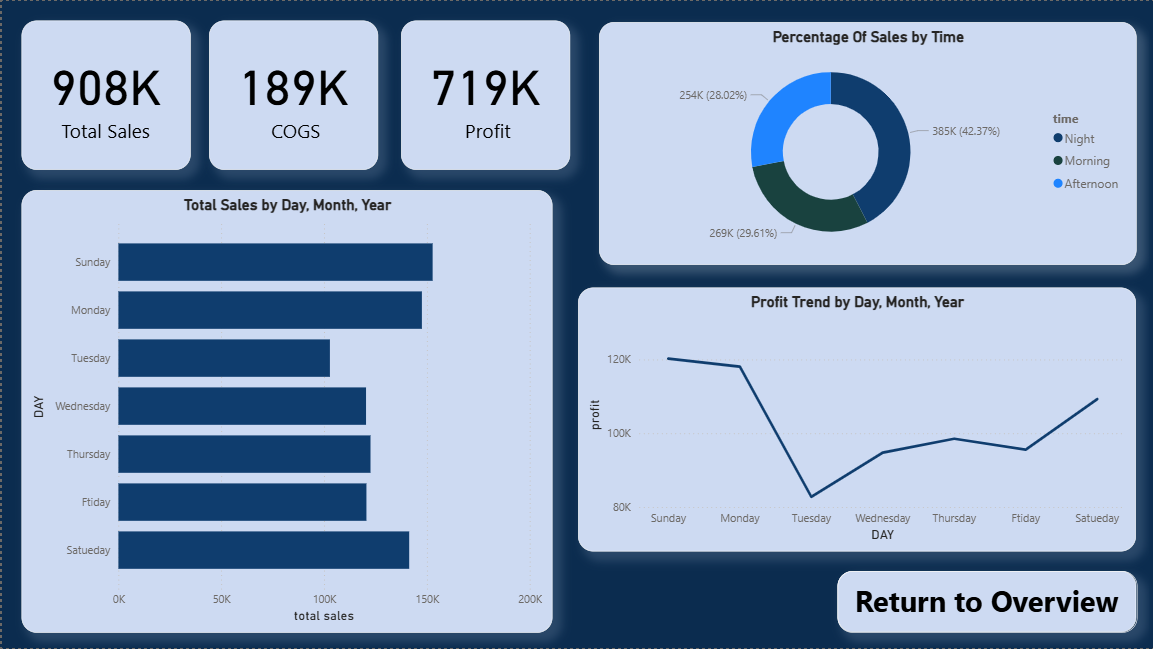

Layout of this report page (visuals, bound fields, positions):
{"tool":"powerbi","page":{"name":"Sales and Profitanalysis","canvas":[1280,720],"ordinal":1},"visuals":[{"type":"donutChart","title":"Percentage Of Sales by Time","fields":{"Category":["retail_sales_analysis_cleaned.time_category"],"Y":["Sum(retail_sales_analysis_cleaned.total_sale)"]},"box":[662.5,22.5,597.5,270],"z":0},{"type":"clusteredBarChart","title":"Total Sales by Day, Month, Year","fields":{"Category":["retail_sales_analysis_cleaned.DAY__name","retail_sales_analysis_cleaned.Month__name","retail_sales_analysis_cleaned.Year_name"],"Y":["Sum(retail_sales_analysis_cleaned.total_sale)"]},"box":[21.7,210,590,491.7],"z":1000},{"type":"card","fields":{"Values":["Sum(retail_sales_analysis_cleaned.profit)"]},"box":[444,22,188,166],"z":2000},{"type":"card","fields":{"Values":["Sum(retail_sales_analysis_cleaned.total_sale)"]},"box":[22,22,188,166],"z":3000},{"type":"card","fields":{"Values":["Sum(retail_sales_analysis_cleaned.cogs)"]},"box":[230,22,188,166],"z":4000},{"type":"textbox","box":[928,634,332,68],"z":6500},{"type":"lineChart","title":"Profit Trend by Day, Month, Year","fields":{"Category":["retail_sales_analysis_cleaned.DAY__name","retail_sales_analysis_cleaned.Month__name","retail_sales_analysis_cleaned.Year_name"],"Y":["Sum(retail_sales_analysis_cleaned.profit)"]},"box":[640,318.3,620,293.3],"z":7000},{"type":"actionButton","box":[928.3,633.3,333.3,68.3],"z":8000}]}

Visuals, with their boxes in screenshot pixels (x1, y1, x2, y2), scaled from the page's 1280x720 canvas onto the 1153x649 screenshot:
"Percentage Of Sales by Time" donutChart: [left=597, top=20, right=1135, bottom=264]
"Total Sales by Day, Month, Year" clusteredBarChart: [left=20, top=189, right=551, bottom=633]
card - Sum(retail_sales_analysis_cleaned.profit): [left=400, top=20, right=569, bottom=169]
card - Sum(retail_sales_analysis_cleaned.total_sale): [left=20, top=20, right=189, bottom=169]
card - Sum(retail_sales_analysis_cleaned.cogs): [left=207, top=20, right=377, bottom=169]
textbox: [left=836, top=571, right=1135, bottom=633]
"Profit Trend by Day, Month, Year" lineChart: [left=576, top=287, right=1135, bottom=551]
actionButton: [left=836, top=571, right=1136, bottom=632]
